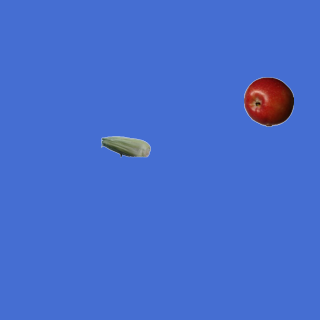Apple Braeburn: (243, 76, 293, 126)
Corn Husk: (100, 121, 150, 171)
